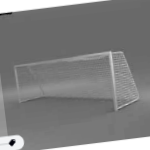goals: (14, 50, 141, 113)
